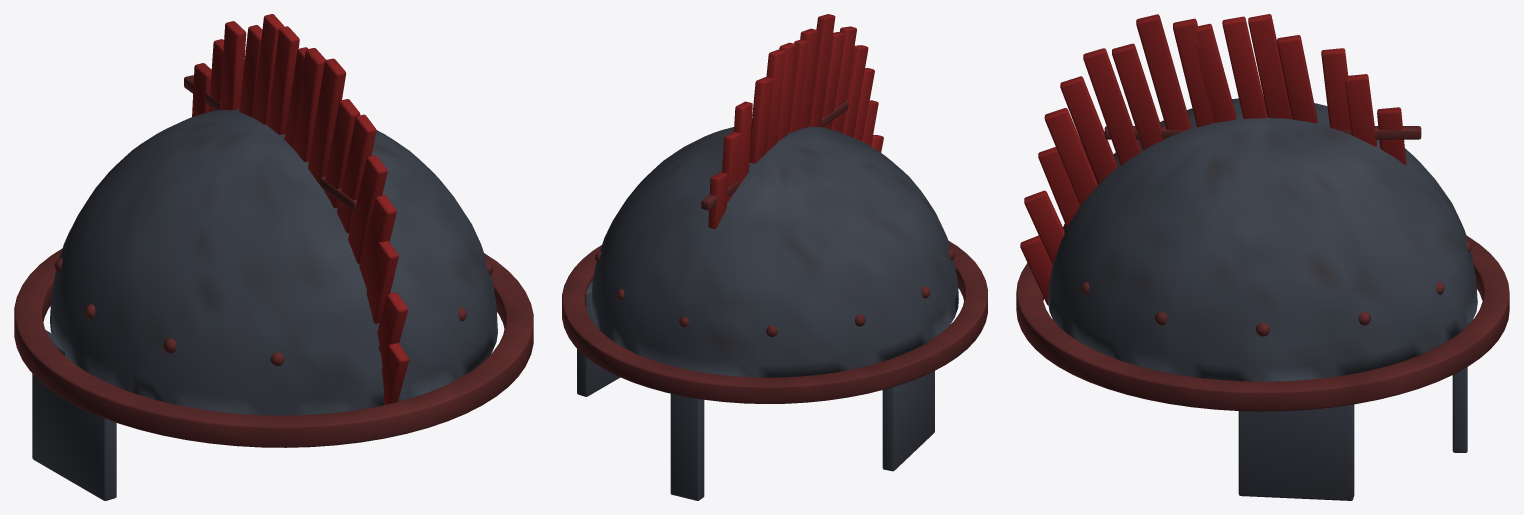
Rendered from head_knight.glb.
3 renders of one model, left to right at view 1: azimuth 30°, elevation 25°; view 2: azimuth 150°, elevation 25°; view 3: azimuth 270°, elevation 25°, orthographic. The views are drawn at different scales.
Parts seen in each view (by area): view 1: Sphere, Cylinder, Cube.001, Cube.012, Cube.009, Cube.011, Cube.014, Cube.015, Cube.006, Cube.008, Cube.013, Cube.017 (+8 smaller); view 2: Sphere, Cylinder, Cube.001, Cube, Cube.012, Cube.007, Cube.002, Cube.015, Cube.008, Cube.014, Cube.010, Cube.013 (+7 smaller); view 3: Sphere, Cylinder, Cube.002, Cube.012, Cube.014, Cube.015, Cube.013, Cube.008, Cube.009, Cube.016, Cube.007, Cube.010 (+9 smaller).
Part boxes in pixels (x1=…): Sphere: x1=50, y1=109, x2=497, y2=415; Cylinder: x1=14, y1=248, x2=533, y2=447; Cube.001: x1=32, y1=330, x2=116, y2=500; Cube.012: x1=308, y1=58, x2=346, y2=183; Cube.009: x1=267, y1=26, x2=299, y2=134; Cube.011: x1=293, y1=48, x2=325, y2=161; Cube.014: x1=337, y1=114, x2=376, y2=233; Cube.015: x1=348, y1=155, x2=387, y2=263; Cube.006: x1=220, y1=21, x2=246, y2=110; Cube.008: x1=252, y1=14, x2=284, y2=124; Cube.013: x1=323, y1=99, x2=360, y2=208; Cube.017: x1=366, y1=241, x2=398, y2=323; Sphere: x1=591, y1=126, x2=958, y2=377; Cylinder: x1=562, y1=240, x2=987, y2=403; Cube.001: x1=882, y1=353, x2=934, y2=471; Cube: x1=670, y1=393, x2=704, y2=500; Cube.012: x1=808, y1=14, x2=835, y2=126; Cube.007: x1=749, y1=77, x2=773, y2=163; Cube.002: x1=577, y1=281, x2=620, y2=396; Cube.015: x1=841, y1=45, x2=868, y2=137; Cube.008: x1=766, y1=49, x2=785, y2=151; Cube.014: x1=831, y1=26, x2=856, y2=132; Cube.010: x1=787, y1=39, x2=808, y2=132; Cube.013: x1=822, y1=32, x2=844, y2=129; Sphere: x1=1048, y1=98, x2=1477, y2=381; Cylinder: x1=1016, y1=235, x2=1509, y2=411; Cube.002: x1=1238, y1=404, x2=1354, y2=500; Cube.012: x1=1136, y1=14, x2=1190, y2=130; Cube.014: x1=1083, y1=48, x2=1140, y2=165; Cube.015: x1=1060, y1=76, x2=1117, y2=184; Cube.013: x1=1112, y1=43, x2=1163, y2=149; Cube.008: x1=1248, y1=14, x2=1292, y2=119; Cube.009: x1=1222, y1=16, x2=1267, y2=118; Cube.016: x1=1044, y1=108, x2=1097, y2=205; Cube.007: x1=1277, y1=35, x2=1317, y2=123; Cube.010: x1=1194, y1=23, x2=1236, y2=122.
Size of the model in its own units: 2.56 by 2.55 by 2.65.
